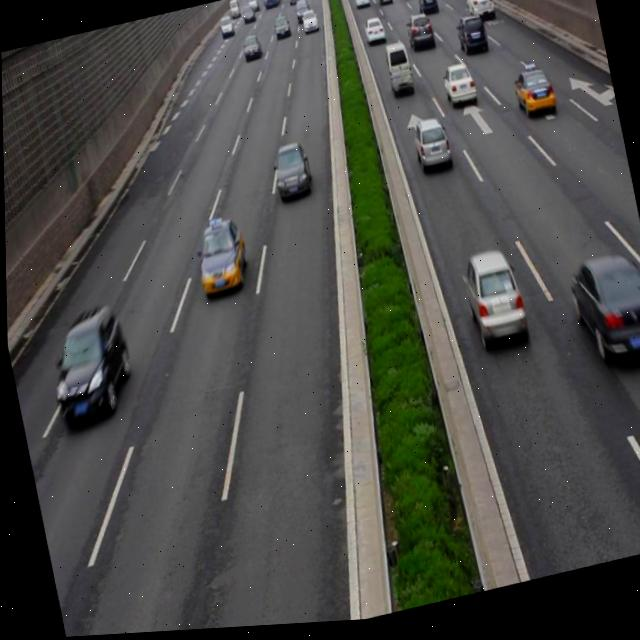car: (39, 304, 136, 429), (562, 254, 640, 381), (455, 249, 528, 362), (190, 217, 251, 304), (267, 144, 313, 209), (511, 69, 556, 129), (410, 123, 451, 181), (439, 65, 477, 118)
truck: (382, 46, 413, 103)
